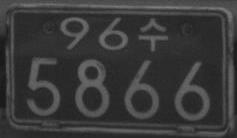5: (27, 56, 60, 116)
6: (123, 59, 160, 120), (173, 61, 210, 121), (98, 17, 129, 51)
8: (74, 57, 110, 118)
9: (60, 16, 89, 50)
수: (138, 17, 168, 52)
